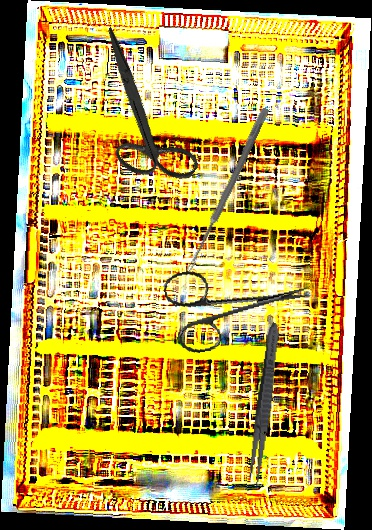Dressing Forceps: (246, 321, 283, 488)
Iris Scissors: (48, 26, 235, 203), (161, 249, 319, 357)
Surgical Spoon: (185, 106, 270, 273)
